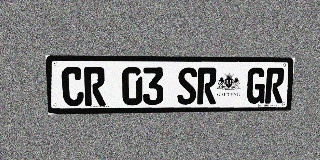0: (122, 67, 142, 105)
3: (143, 67, 163, 105)
C: (61, 67, 84, 106)
G: (246, 68, 266, 104)
R: (84, 67, 106, 106), (197, 67, 217, 104), (265, 68, 285, 103)
S: (177, 67, 197, 105)
